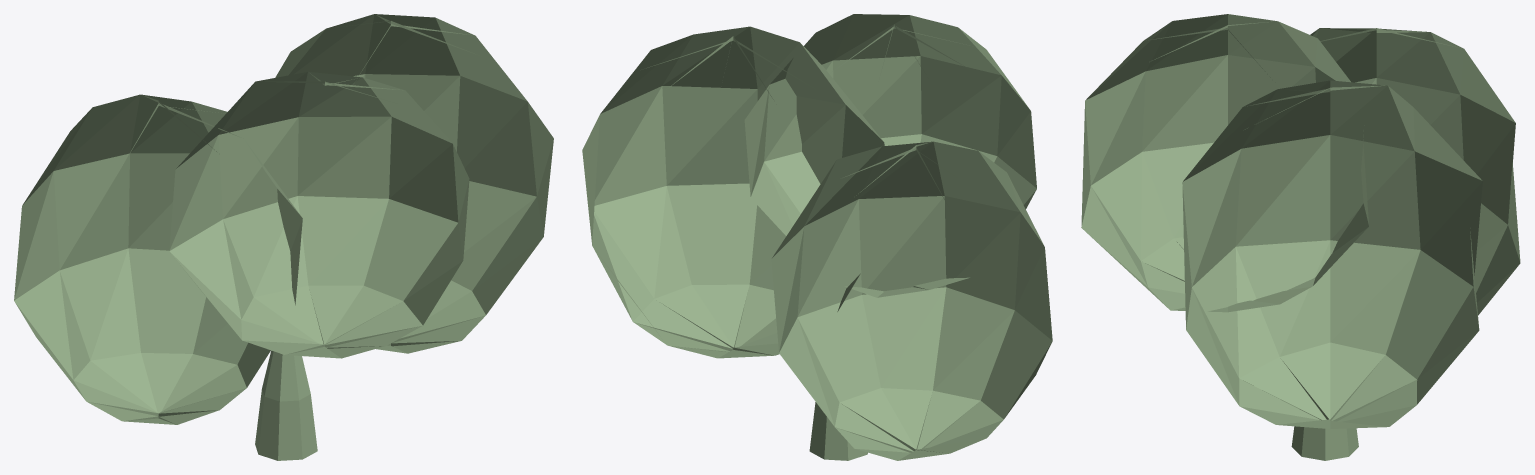
File: shrub-b.glb
3 renders of one model, left to right at view 1: azimuth 30°, elevation 25°; view 2: azimuth 150°, elevation 25°; view 3: azimuth 270°, elevation 25°, orthographic. The views are drawn at different scales.
Parts seen in each view (by area): view 1: VEG_FOLIAGE; view 2: VEG_FOLIAGE; view 3: VEG_FOLIAGE.
Boxes of the visible parts, x1,y1,x2,y2 form: VEG_FOLIAGE: [14, 14, 553, 460]; VEG_FOLIAGE: [582, 14, 1052, 460]; VEG_FOLIAGE: [1081, 14, 1520, 460].
Size of the model in its own units: 1.12 by 0.89 by 0.8486.
